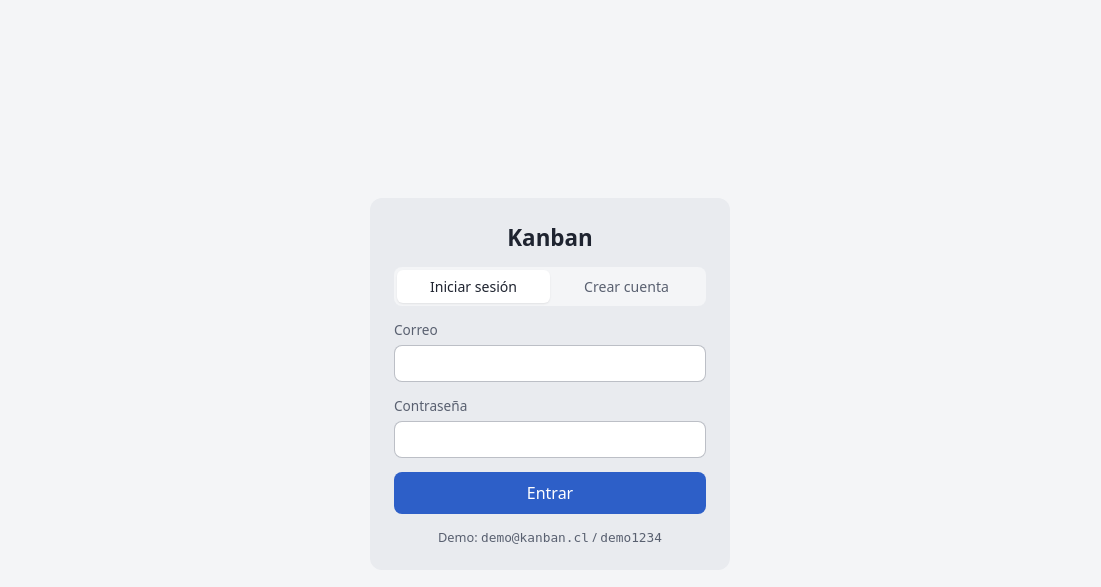
Test: pantalla de acceso › al entrar abre el espacio de trabajo y conecta el socket con la cookie nueva
This screenshot has width=1101, height=587.
Step 1. Type "ana@ejemplo.cl" into the field labelled "Correo" → (550, 364), box [394,345,706,382]
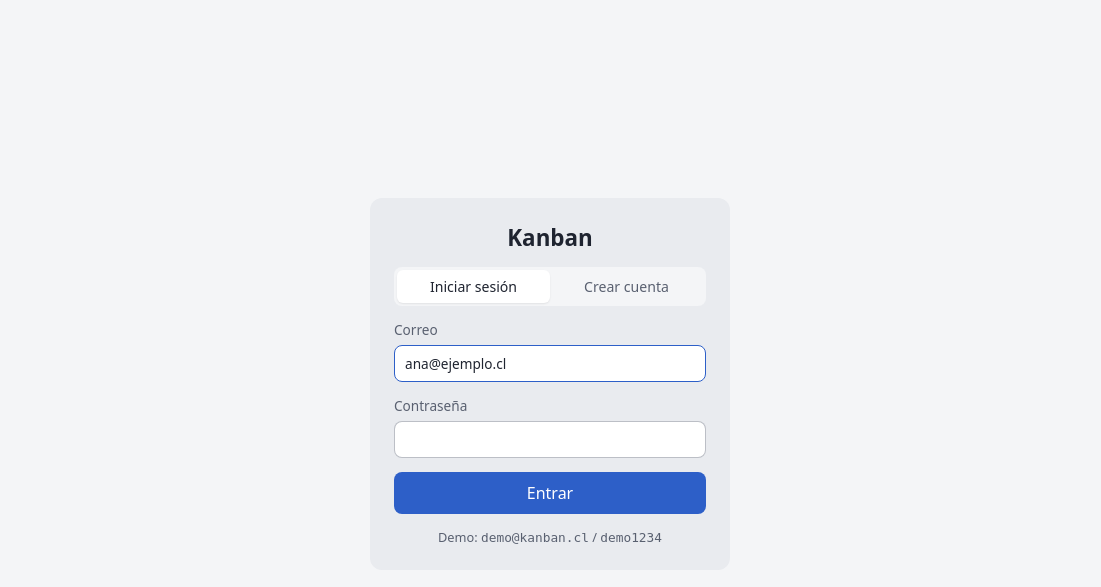
Step 2. Type "contraseña-segura" into the password field labelled "Contraseña" → (550, 440), box [394,421,706,458]
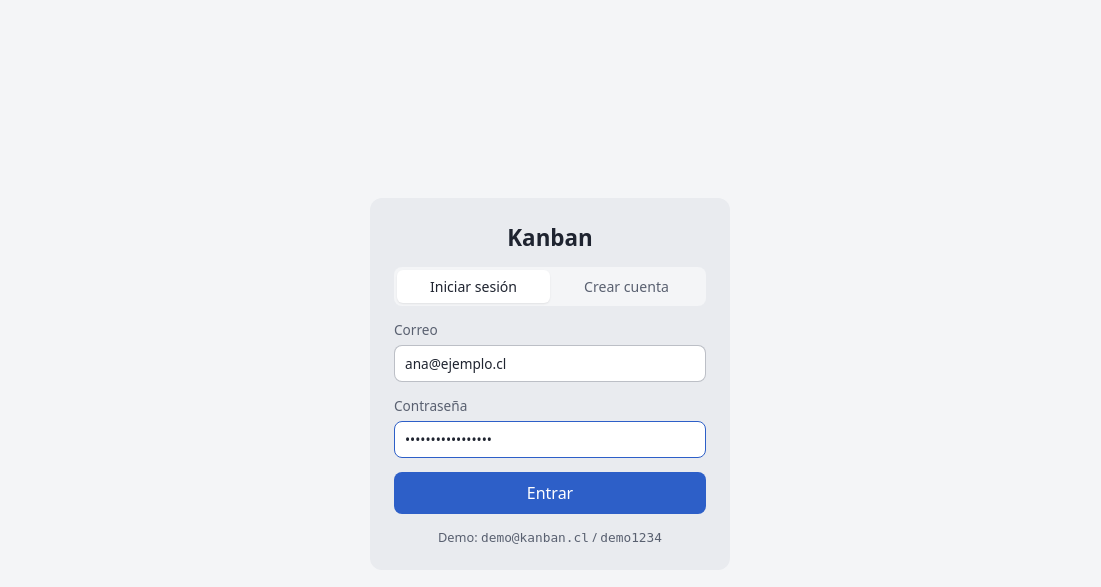
Step 3. Click the button "Entrar" → click(550, 493), box [394,472,706,514]
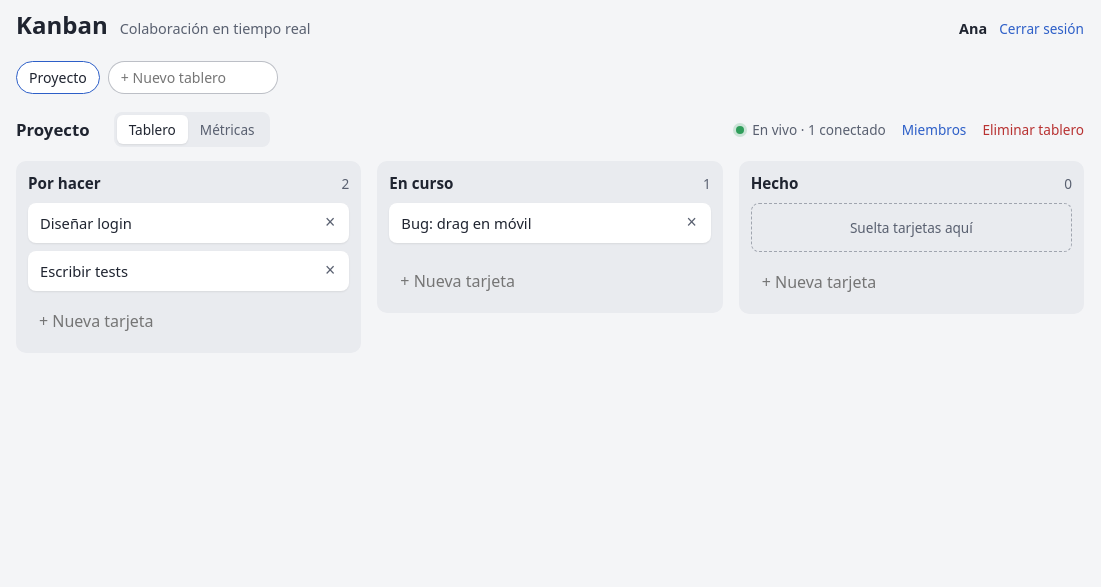
Check: the text "Ana" is shown, box [959,19,987,38]
Check: the heading "Proyecto" is shown, box [16,118,90,141]
